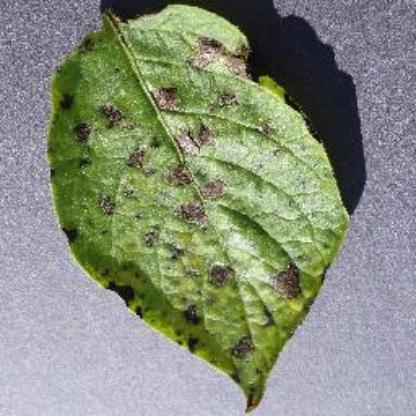Early-Blight: (43, 5, 349, 410)
